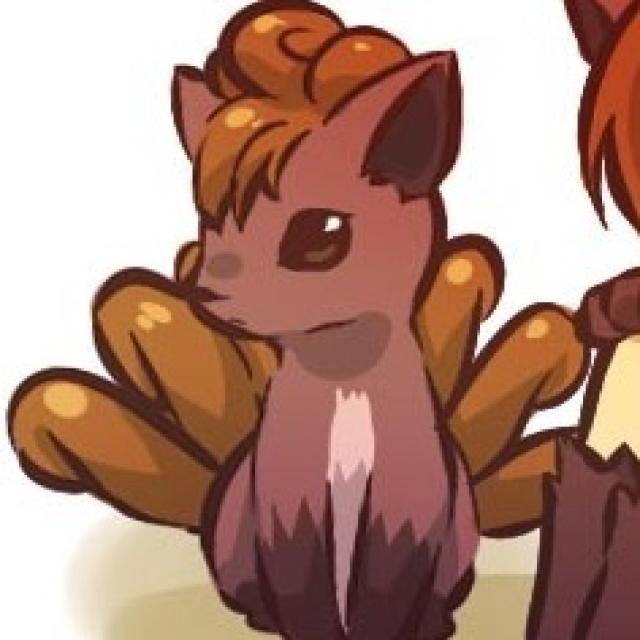Vulpix: (165, 2, 496, 640)
